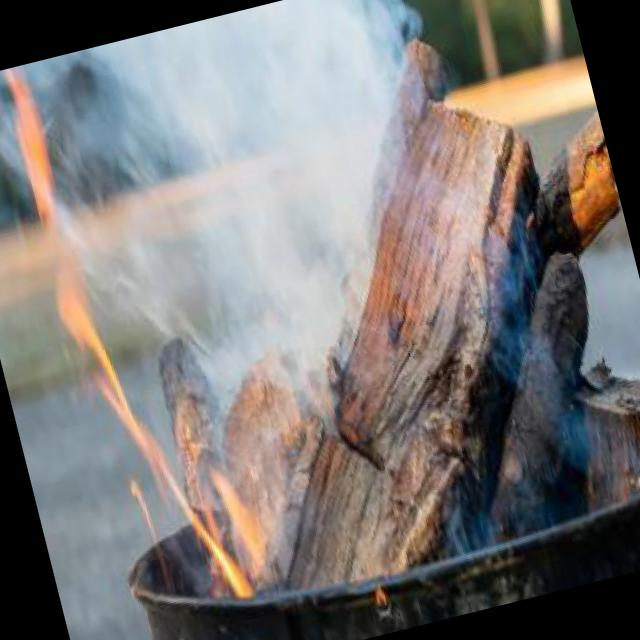fire: (139, 448, 296, 622)
smoke: (0, 0, 509, 450)
